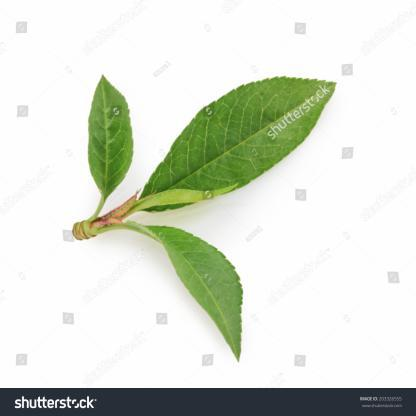Peach leaf: (135, 74, 345, 212), (128, 219, 246, 362), (87, 62, 139, 200)
